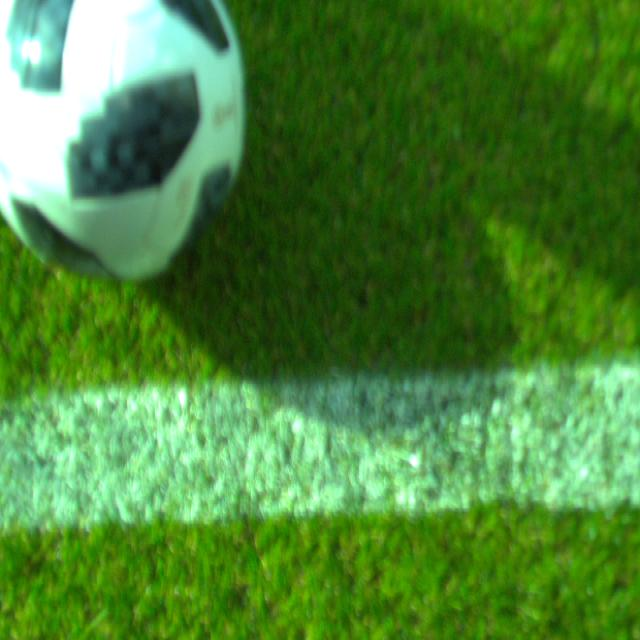ball: (0, 0, 247, 283)
